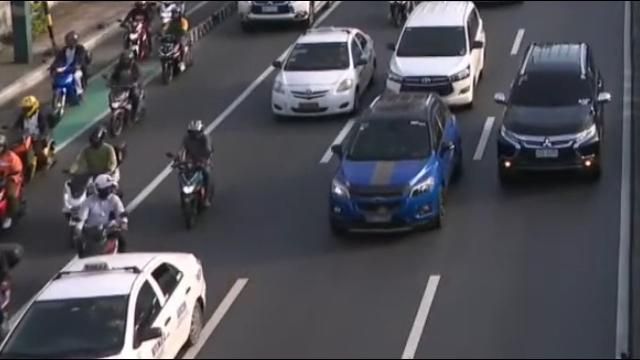car: (317, 73, 467, 257), (0, 233, 213, 360), (488, 22, 613, 193), (265, 19, 383, 121), (382, 0, 484, 114), (236, 0, 339, 30)
motorcycle: (160, 109, 225, 227), (60, 127, 130, 218), (70, 173, 125, 268), (48, 19, 92, 124), (14, 85, 59, 180), (102, 46, 149, 136), (155, 5, 195, 85), (120, 1, 155, 62)
